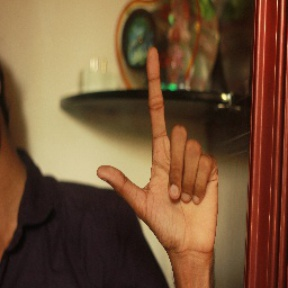L: (96, 46, 224, 251)
